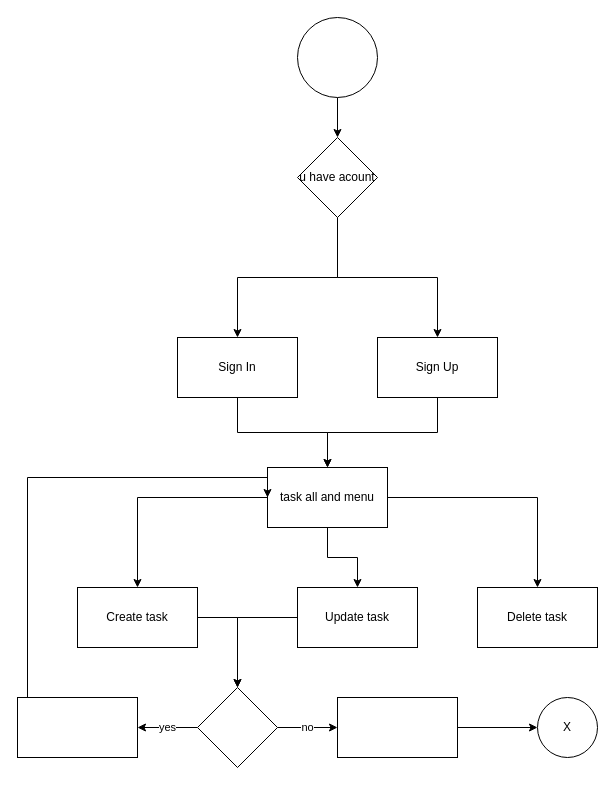
Some shapes in this 615 by 785 pixel diagram are drawn without their labels. Here are the shapes that lost their labels. From the top down, the centre of each, then its label:
point 337,57: Home
point 77,727: public task
point 237,727: show task
point 397,727: private task
